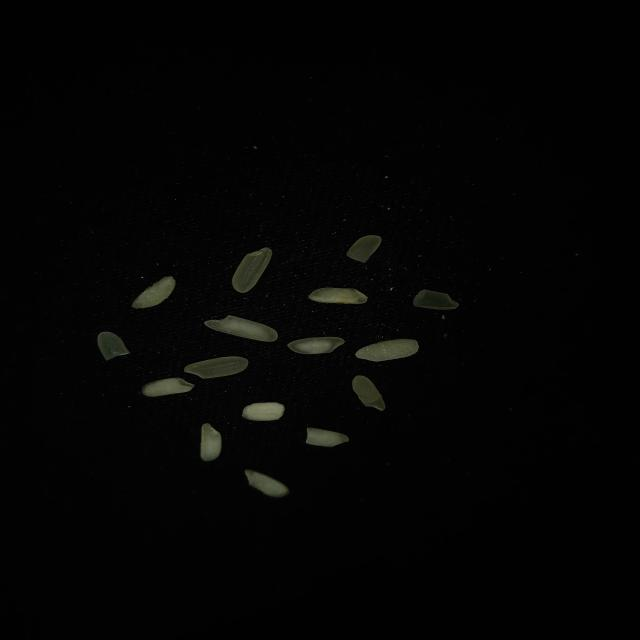Broken: (346, 235, 382, 263), (413, 289, 459, 310), (98, 332, 130, 361), (306, 427, 349, 447), (242, 402, 284, 421)
Full: (204, 315, 278, 341), (232, 248, 273, 293), (356, 338, 418, 362), (184, 356, 248, 378), (132, 276, 176, 308), (244, 469, 290, 498), (352, 375, 386, 411), (142, 377, 195, 397), (288, 336, 344, 354), (308, 287, 367, 304), (201, 423, 221, 461)
